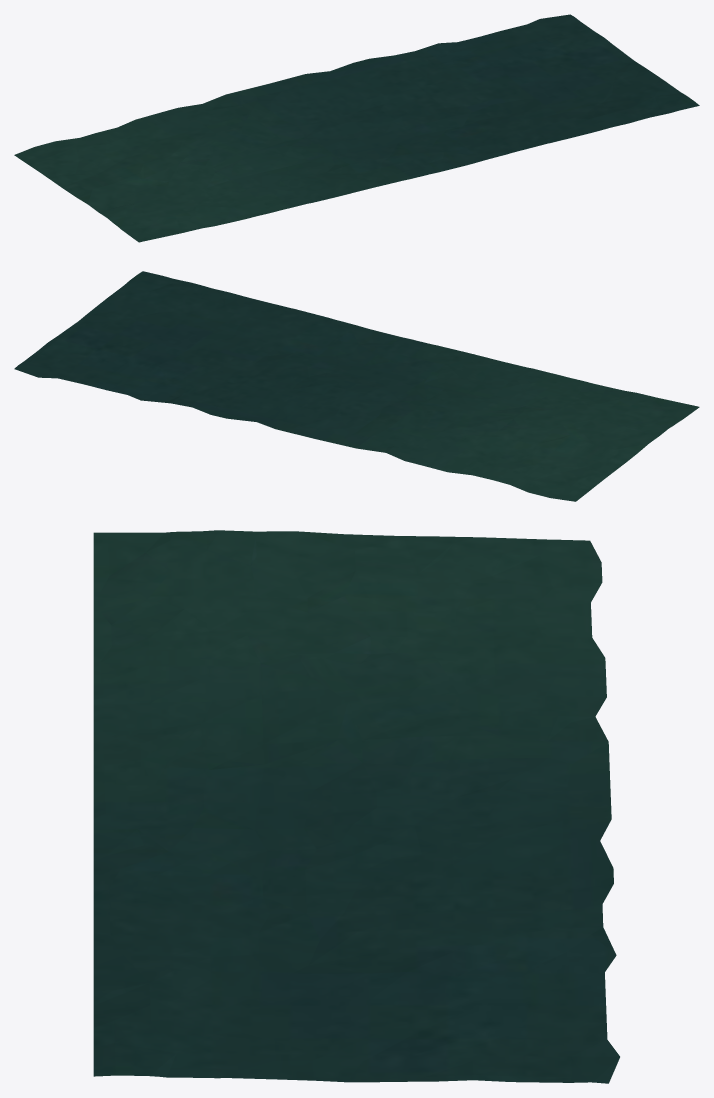
3 views of the same model, one above another, from view 1: azimuth 30°, elevation 25°; view 2: azimuth 150°, elevation 25°; view 3: azimuth 270°, elevation 25° (orthographic). The views are drawn at different scales.
Bounding box in the file's own units: 104 × 1.05 × 42.76.
Materials: 1 (1 with a texture image).
